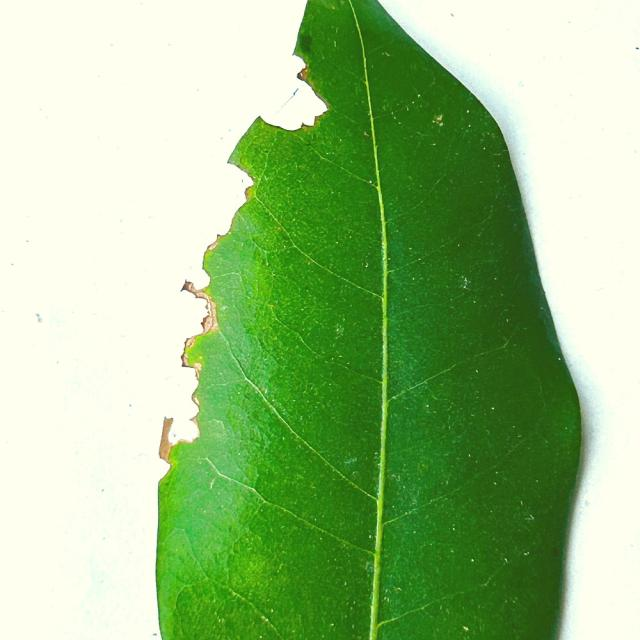Deficiency Leaf: (142, 260, 212, 463), (238, 54, 328, 134)
Lychee: (154, 0, 584, 639)
